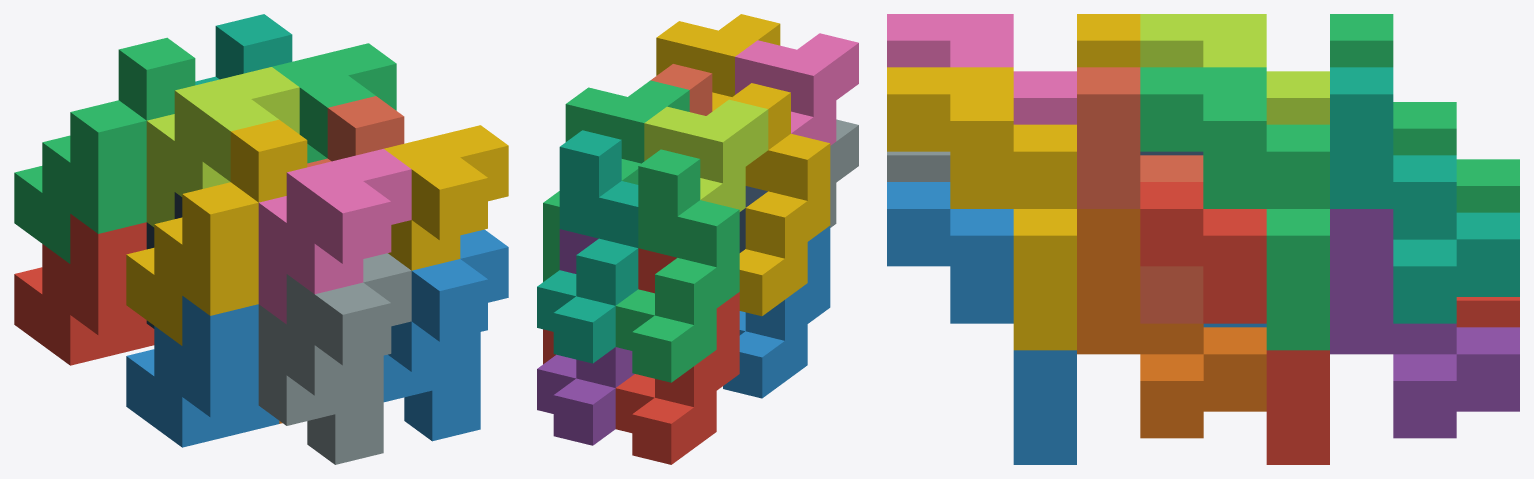
The model's file is tiling.obj.
3 renders of one model, left to right at view 1: azimuth 30°, elevation 25°; view 2: azimuth 150°, elevation 25°; view 3: azimuth 270°, elevation 25°, orthographic. The views are drawn at different scales.
Visible parts, largest first — view 1: copy_2_domain_2, copy_1_domain_4, copy_1_domain_3, copy_2_domain_4, copy_2_domain_6, copy_1_domain_2, copy_1_domain_1, copy_2_domain_3, copy_2_domain_8, copy_2_domain_7, copy_1_domain_7, copy_1_domain_8; view 2: copy_1_domain_3, copy_1_domain_7, copy_1_domain_4, copy_1_domain_1, copy_2_domain_3, copy_2_domain_4, copy_1_domain_2, copy_1_domain_5, copy_2_domain_7, copy_2_domain_8, copy_2_domain_2, copy_1_domain_8 (+2 smaller); view 3: copy_2_domain_7, copy_2_domain_8, copy_1_domain_7, copy_1_domain_5, copy_1_domain_6, copy_2_domain_5, copy_2_domain_6, copy_1_domain_8, copy_1_domain_3, copy_2_domain_3, copy_2_domain_4, copy_1_domain_4 (+2 smaller).
Part boxes in pixels (left/top/right/bottom): copy_2_domain_2: left=258, top=253, right=411, bottom=464; copy_1_domain_4: left=126, top=119, right=307, bottom=345; copy_1_domain_3: left=14, top=37, right=195, bottom=263; copy_2_domain_4: left=258, top=149, right=411, bottom=324; copy_2_domain_6: left=383, top=229, right=508, bottom=441; copy_1_domain_2: left=126, top=296, right=279, bottom=447; copy_1_domain_1: left=14, top=214, right=154, bottom=365; copy_2_domain_3: left=146, top=67, right=299, bottom=227; copy_2_domain_8: left=384, top=125, right=508, bottom=270; copy_2_domain_7: left=272, top=43, right=396, bottom=163; copy_1_domain_7: left=195, top=14, right=292, bottom=85; copy_1_domain_8: left=307, top=96, right=404, bottom=167; copy_1_domain_3: left=615, top=149, right=739, bottom=382; copy_1_domain_7: left=537, top=130, right=638, bottom=363; copy_1_domain_4: left=729, top=83, right=830, bottom=316; copy_1_domain_1: left=615, top=248, right=739, bottom=464; copy_2_domain_3: left=644, top=99, right=768, bottom=211; copy_2_domain_4: left=735, top=33, right=858, bottom=145; copy_1_domain_2: left=723, top=226, right=830, bottom=398; copy_1_domain_5: left=537, top=229, right=634, bottom=445; copy_2_domain_7: left=543, top=80, right=689, bottom=281; copy_2_domain_8: left=656, top=14, right=780, bottom=111; copy_2_domain_2: left=830, top=119, right=858, bottom=227; copy_1_domain_8: left=650, top=64, right=712, bottom=115; copy_2_domain_7: left=1140, top=67, right=1329, bottom=350; copy_2_domain_8: left=887, top=67, right=1076, bottom=350; copy_1_domain_7: left=1330, top=67, right=1519, bottom=323; copy_1_domain_5: left=1330, top=209, right=1519, bottom=438; copy_1_domain_6: left=1077, top=209, right=1266, bottom=438; copy_2_domain_5: left=1140, top=182, right=1329, bottom=464; copy_2_domain_6: left=887, top=182, right=1076, bottom=464; copy_1_domain_8: left=1077, top=67, right=1203, bottom=323; copy_1_domain_3: left=1330, top=14, right=1519, bottom=212; copy_2_domain_3: left=1140, top=14, right=1329, bottom=124; copy_2_domain_4: left=887, top=14, right=1076, bottom=124; copy_1_domain_4: left=1077, top=14, right=1140, bottom=67.
Size of the model in its own units: 5 by 6 by 10.
